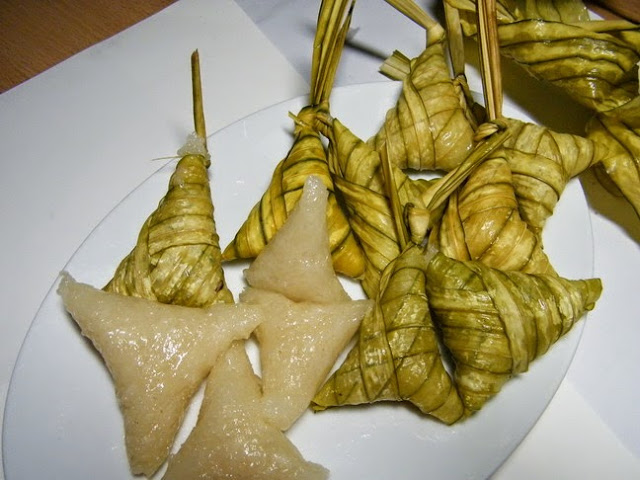kanomtom: (302, 237, 482, 449), (87, 128, 249, 343), (420, 239, 612, 420), (407, 121, 577, 291), (228, 104, 377, 293)
